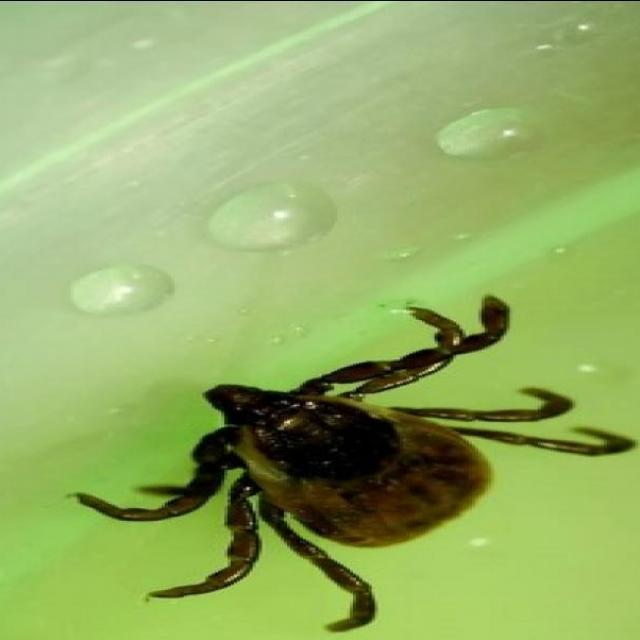Rhipicephalus Sanguineus-F: (71, 293, 638, 633)
